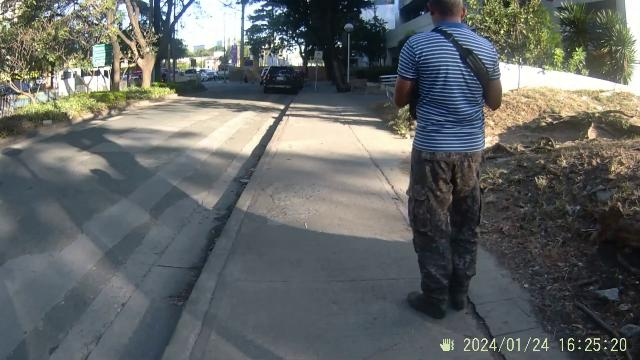lamp_post: (342, 19, 356, 89)
street_sign: (306, 45, 332, 99)
